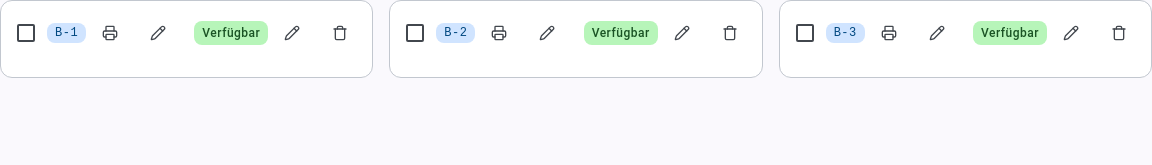
Test: Buchakte: markierte Exemplare löschen › meldet, was nicht gelöscht wurde, und lässt es markiert
Click the checkbox named "Exemplar B-1 auswählen" at (26, 33), box [6,13,46,53]
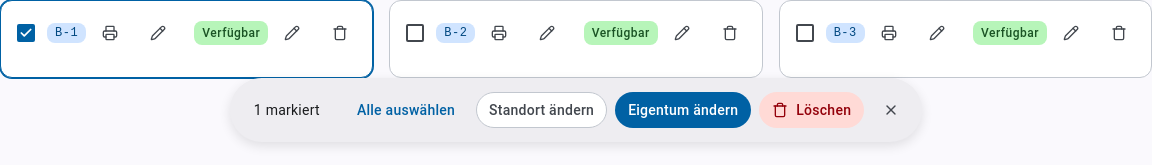
Click the checkbox named "Exemplar B-2 auswählen" at (415, 33), box [395,13,435,53]
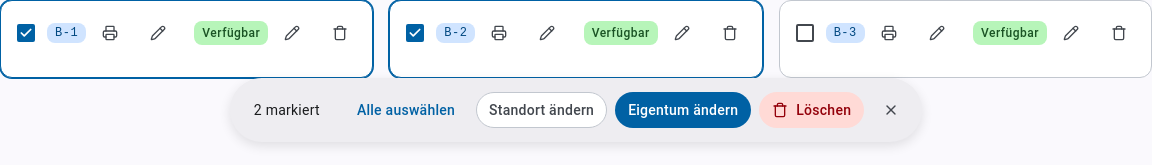
Click the checkbox named "Exemplar B-3 auswählen" at (805, 33), box [785,13,825,53]
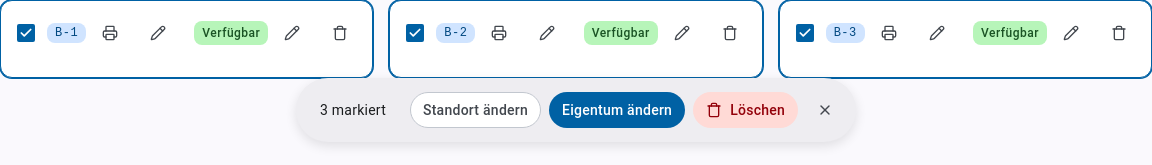
Click the button "Löschen" at (746, 110), box [693,92,798,128]
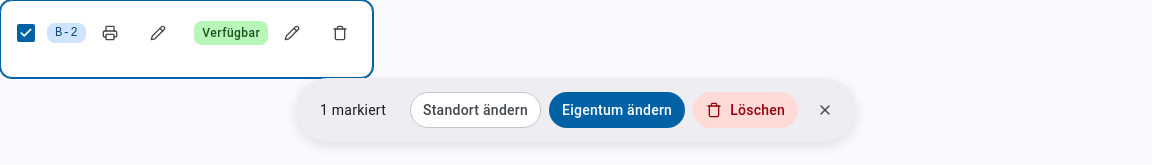
Check: the checkbox named "Exemplar B-2 auswählen" is checked, box [6,13,46,53]
Check: the text "1 markiert" is shown, box [320,100,386,120]
